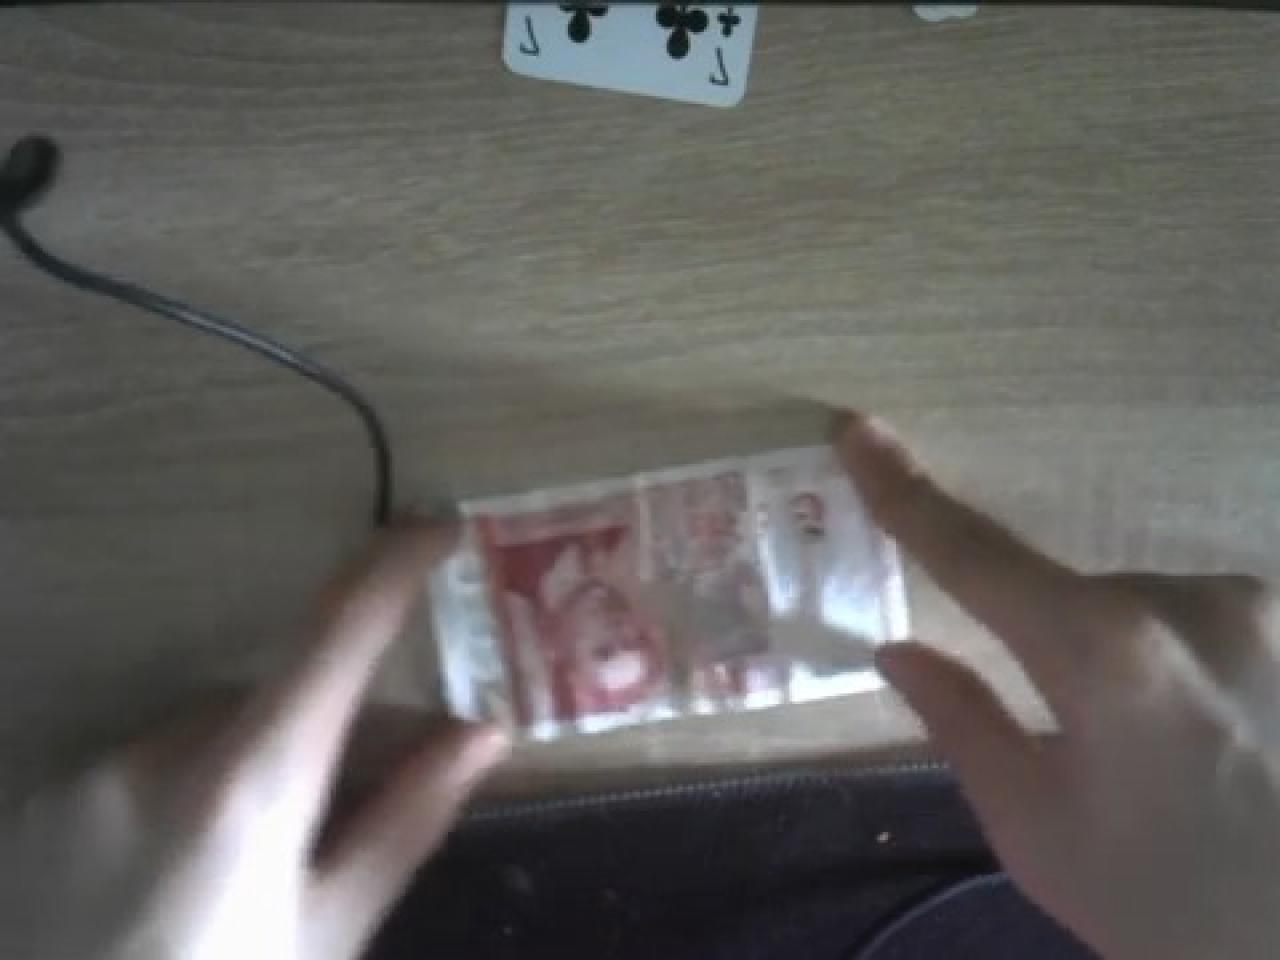5leva: (470, 448, 901, 741), (488, 461, 846, 731)
